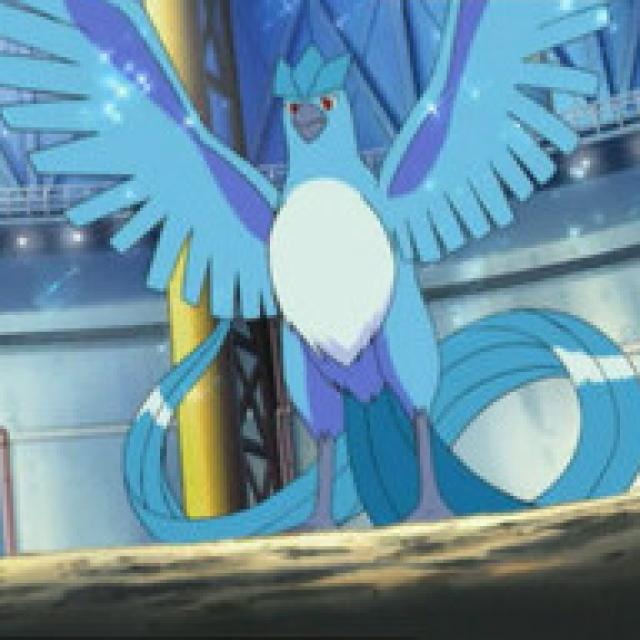Articuno: (124, 44, 502, 534)
